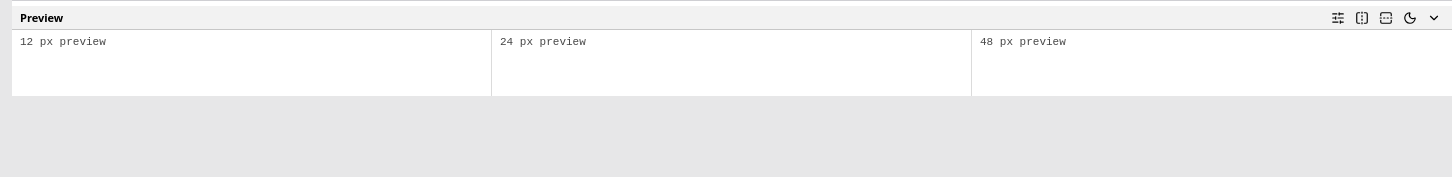
PreviewStrip › expands a range with a step into labelled waterfall rows
Click the button named "Preview settings" at coordinates (1338, 18), box [1328,8,1348,28]
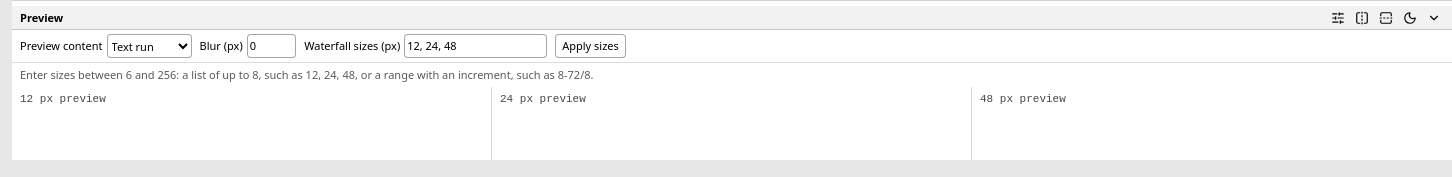
Replace the text in the field labelled "Waterfall sizes (px)" with "8-32/8" at coordinates (476, 46), box [404,34,547,58]
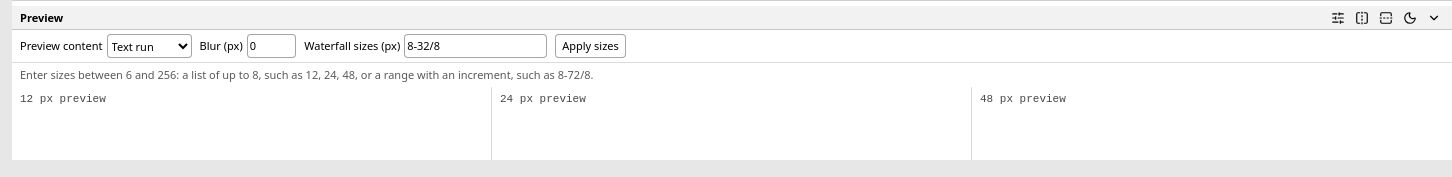
Click the button "Apply sizes" at coordinates (590, 46), box [555,34,626,58]
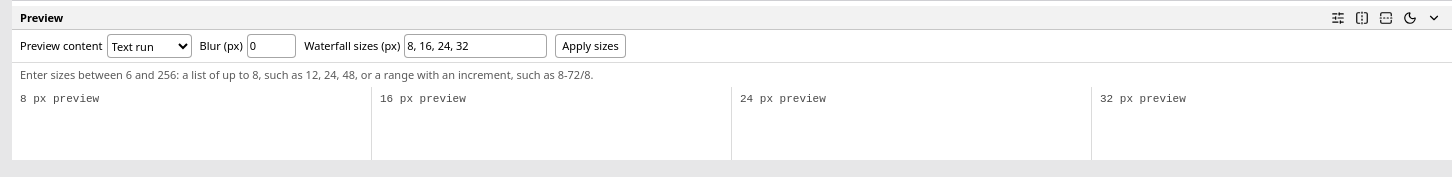
expect the field labelled "Waterfall sizes (px)" holds "8, 16, 24, 32": met, box [404,34,547,58]
